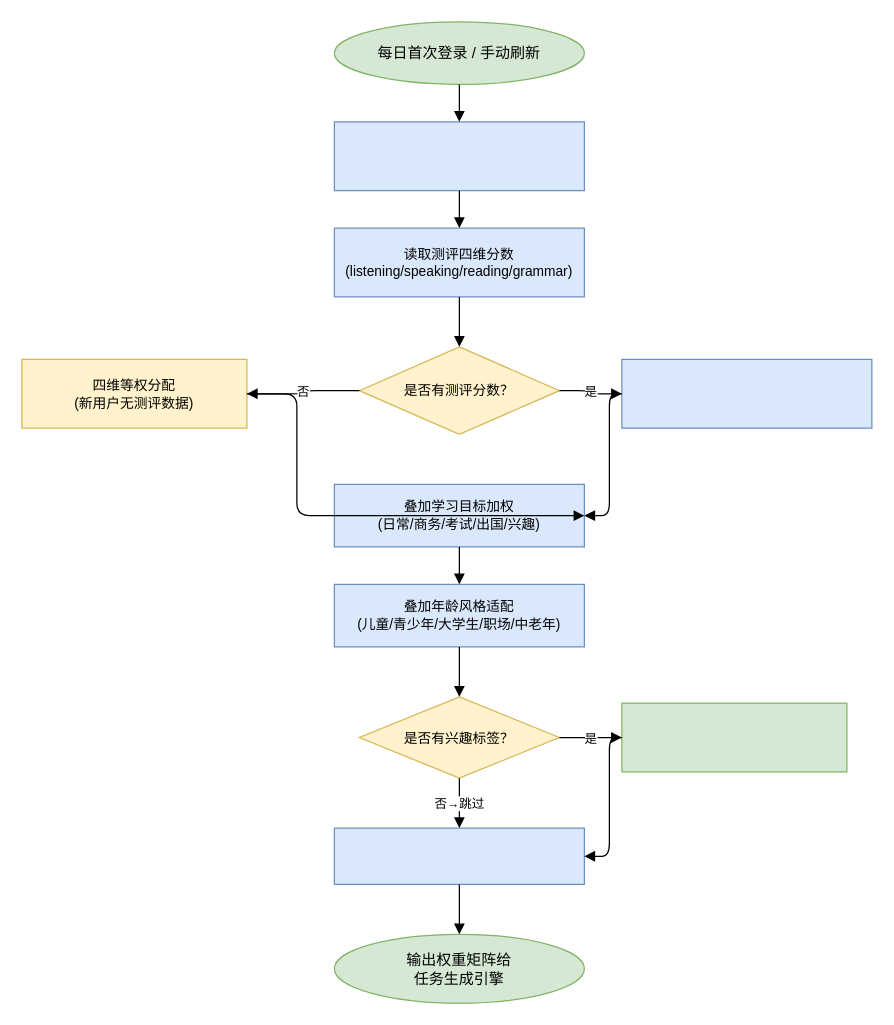
Image size: 894x1025. Some labels were removed from this diagram. The shapes that lost their labels are listed below. From the top down, each one's centre as x and y in pixels, then its label:
At [458,156]: "读取用户画像 (age_group/learning_goal/interests/cefr)".
At [746,393]: "短板优先配比 取最低分维度→权重 50%".
At [734,737]: "兴趣标签命中加分 (每个命中 +8 权重)".
At [458,855]: "叠加难度偏好偏移 (用户手动±调整)".
